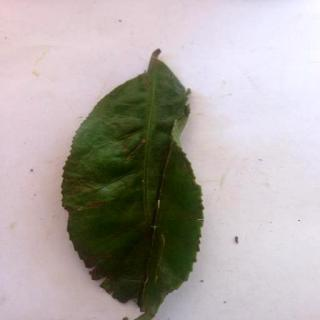Brown Blight: (62, 47, 206, 320)
